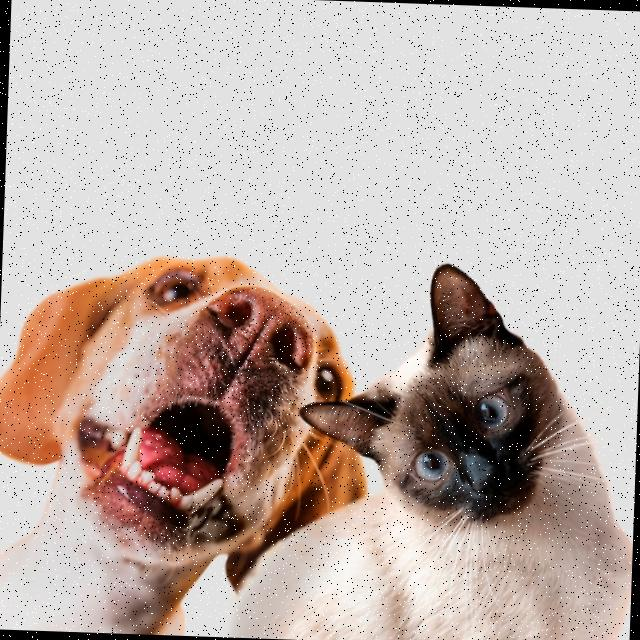Dog: (0, 246, 371, 640)
